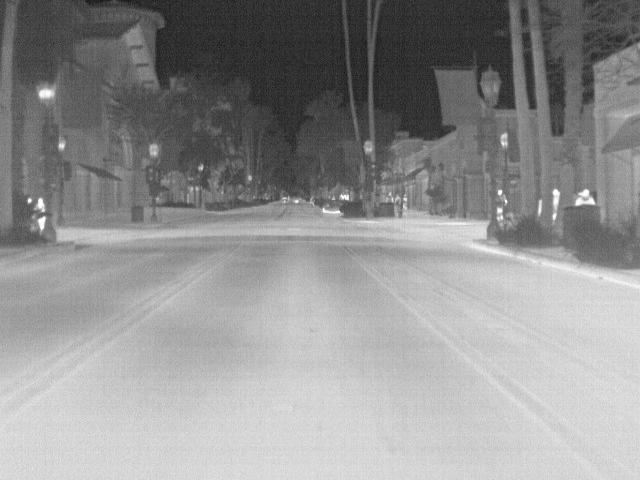car: (280, 195, 290, 204)
person: (33, 197, 47, 223), (575, 188, 595, 206), (495, 190, 506, 222), (551, 188, 559, 216), (401, 193, 408, 211), (396, 192, 401, 204), (387, 192, 392, 204)
